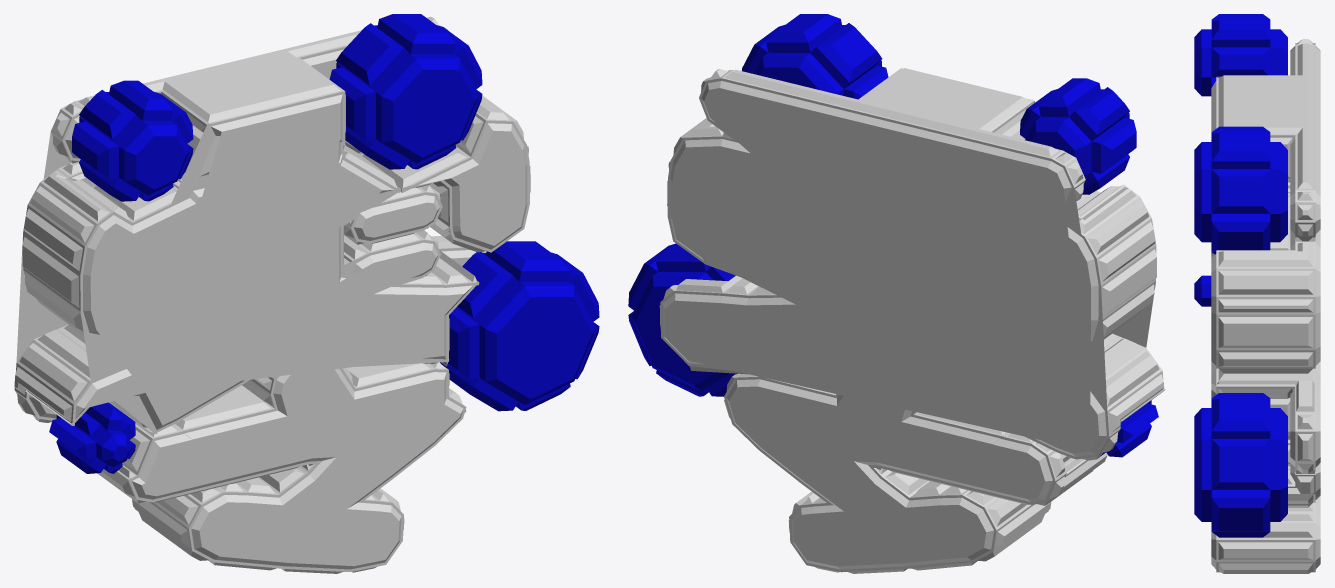
The model's file is Ch_China_零_01.fbx.
The picture shows the model from 3 angles, left to right: view 1: azimuth 30°, elevation 25°; view 2: azimuth 150°, elevation 25°; view 3: azimuth 270°, elevation 25°; orthographic projection. The views are drawn at different scales.
Visible parts, largest first — view 1: sphere1; view 2: sphere1; view 3: sphere1.
Boxes of the visible parts, bbox=[...] form: sphere1: bbox=[14, 14, 599, 573]; sphere1: bbox=[628, 14, 1165, 573]; sphere1: bbox=[1194, 14, 1320, 573].
Size of the model in its own units: 1.07 by 1.02 by 0.2541.
